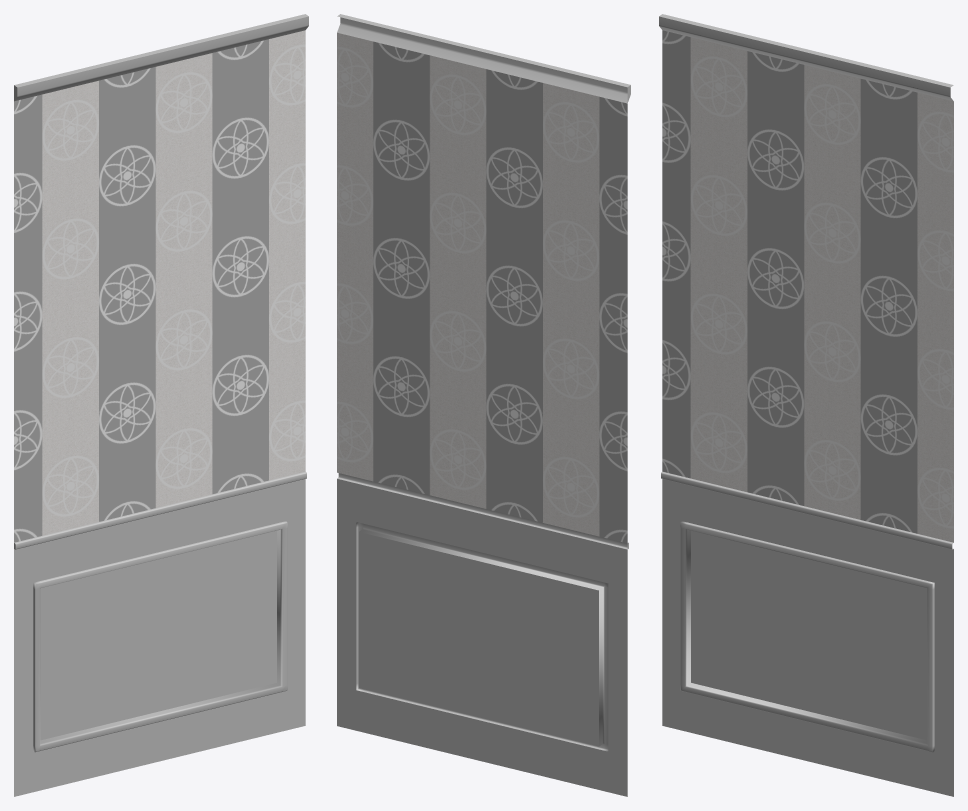
File: WallNiche03_150cm.FBX
3 views of the same model, side by side, from view 1: azimuth 30°, elevation 25°; view 2: azimuth 150°, elevation 25°; view 3: azimuth 330°, elevation 25° (orthographic).
Visible parts, largest first — view 1: WallNiche03_150cm; view 2: WallNiche03_150cm; view 3: WallNiche03_150cm.
Boxes of the visible parts, x1,y1,x2,y2 form: WallNiche03_150cm: [14, 14, 308, 796]; WallNiche03_150cm: [337, 14, 630, 796]; WallNiche03_150cm: [659, 14, 953, 796].
Bounding box in the file's own units: 1500 × 3500 × 60.
